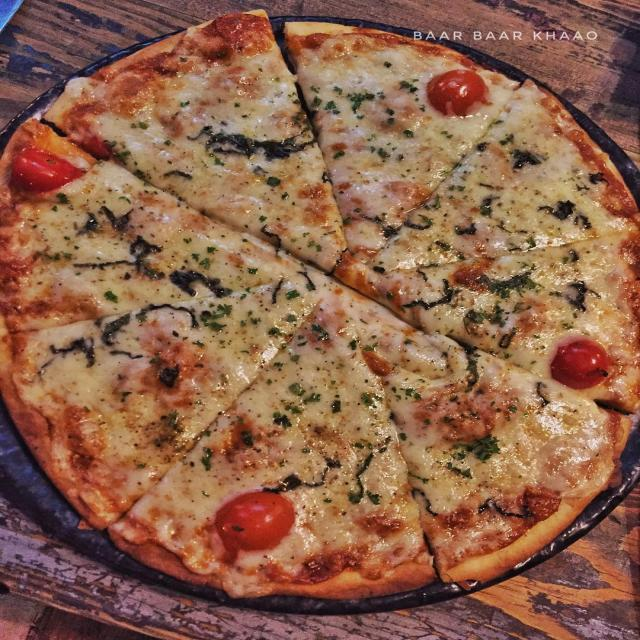pizza: (0, 6, 640, 603)
tomatoes: (211, 488, 297, 553), (2, 143, 90, 197), (420, 65, 495, 118), (546, 335, 616, 390)
